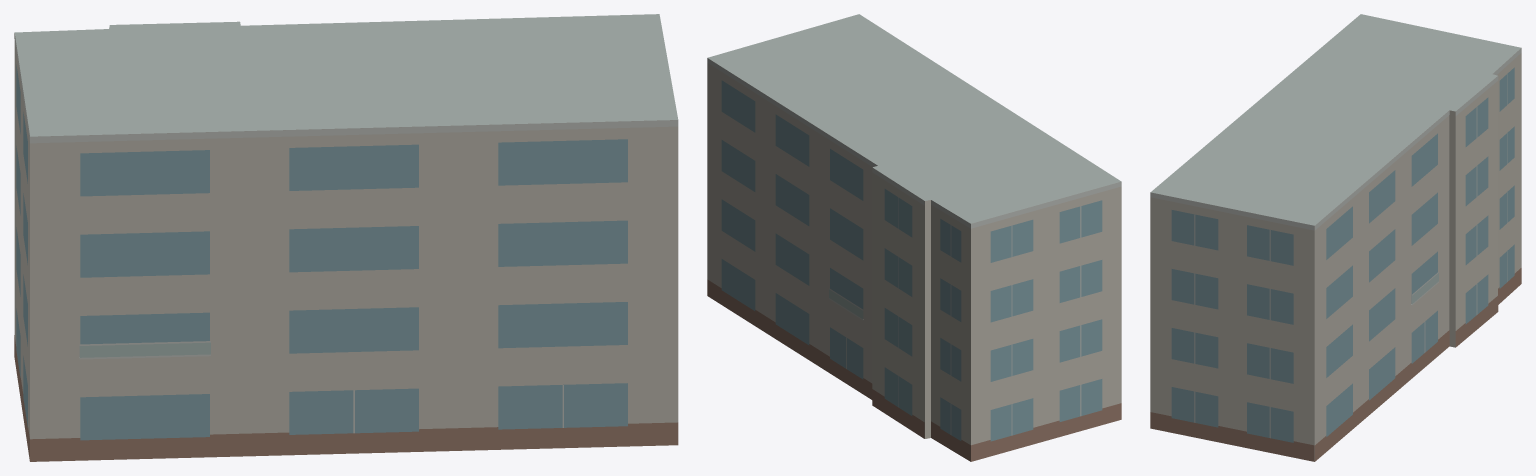
The model's file is survey-upis-32894259.glb.
3 renders of one model, left to right at view 1: azimuth 30°, elevation 25°; view 2: azimuth 150°, elevation 25°; view 3: azimuth 270°, elevation 25°, orthographic. The views are drawn at different scales.
Visible parts, largest first — view 1: survey-upis-32894259.tmp; view 2: survey-upis-32894259.tmp; view 3: survey-upis-32894259.tmp.
Part boxes in pixels (<box>): survey-upis-32894259.tmp: <box>14,14,678,461</box>; survey-upis-32894259.tmp: <box>707,14,1121,461</box>; survey-upis-32894259.tmp: <box>1150,14,1521,461</box>.
Size of the model in its own units: 22.9 by 11.9 by 16.96.
